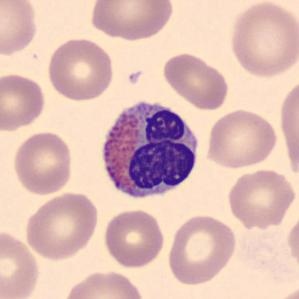Eosinophil: (94, 94, 204, 207)
Platelets: (126, 68, 144, 86)
RBC: (227, 0, 298, 80), (164, 212, 240, 286), (22, 189, 100, 261), (203, 107, 280, 171), (45, 35, 116, 103), (224, 166, 297, 229), (10, 128, 75, 197), (160, 50, 231, 111), (101, 207, 166, 269), (87, 0, 177, 42), (0, 227, 42, 299), (0, 71, 47, 132), (59, 268, 146, 299), (276, 73, 299, 179), (0, 0, 39, 57), (285, 212, 298, 272), (272, 282, 298, 299)
